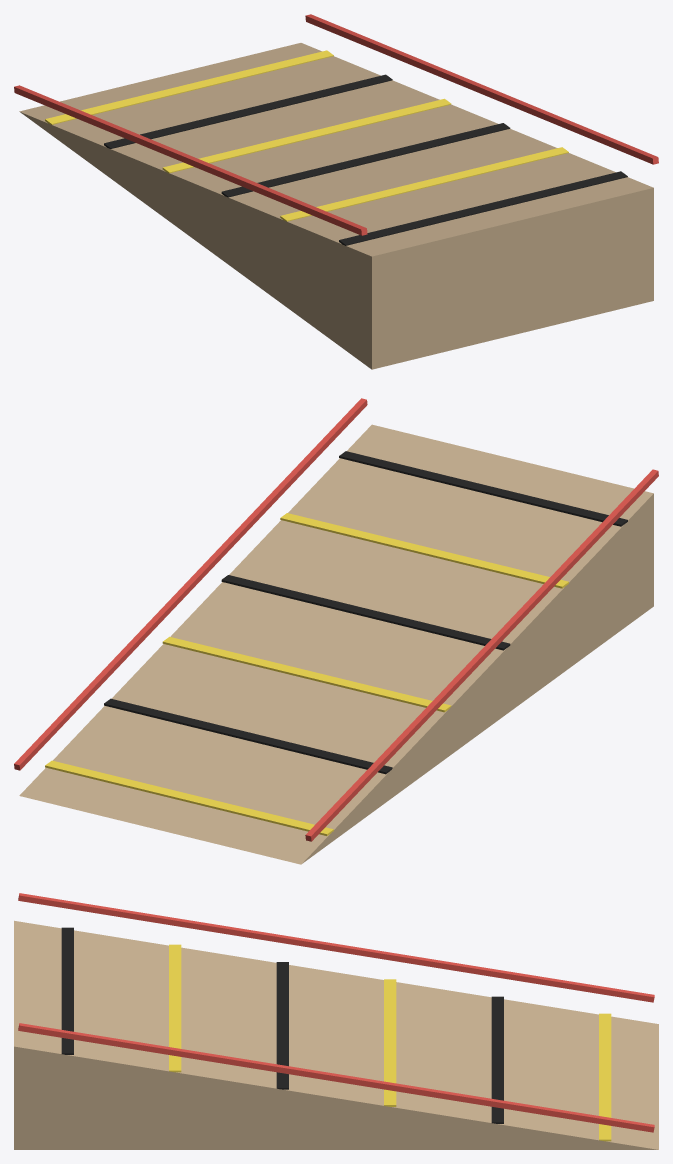
Rendered from ramp_jump.glb.
3 renders of one model, top to bottom at view 1: azimuth 30°, elevation 25°; view 2: azimuth 150°, elevation 25°; view 3: azimuth 270°, elevation 25°, orthographic. The views are drawn at different scales.
Parts seen in each view (by area): view 1: ramp_jump; view 2: ramp_jump; view 3: ramp_jump.
Boxes of the visible parts, left/top/right/bottom form: ramp_jump: left=14, top=14, right=658, bottom=369; ramp_jump: left=14, top=398, right=658, bottom=864; ramp_jump: left=14, top=893, right=658, bottom=1149.
Bounding box in the file's own units: 6.32 × 2.84 × 13.
